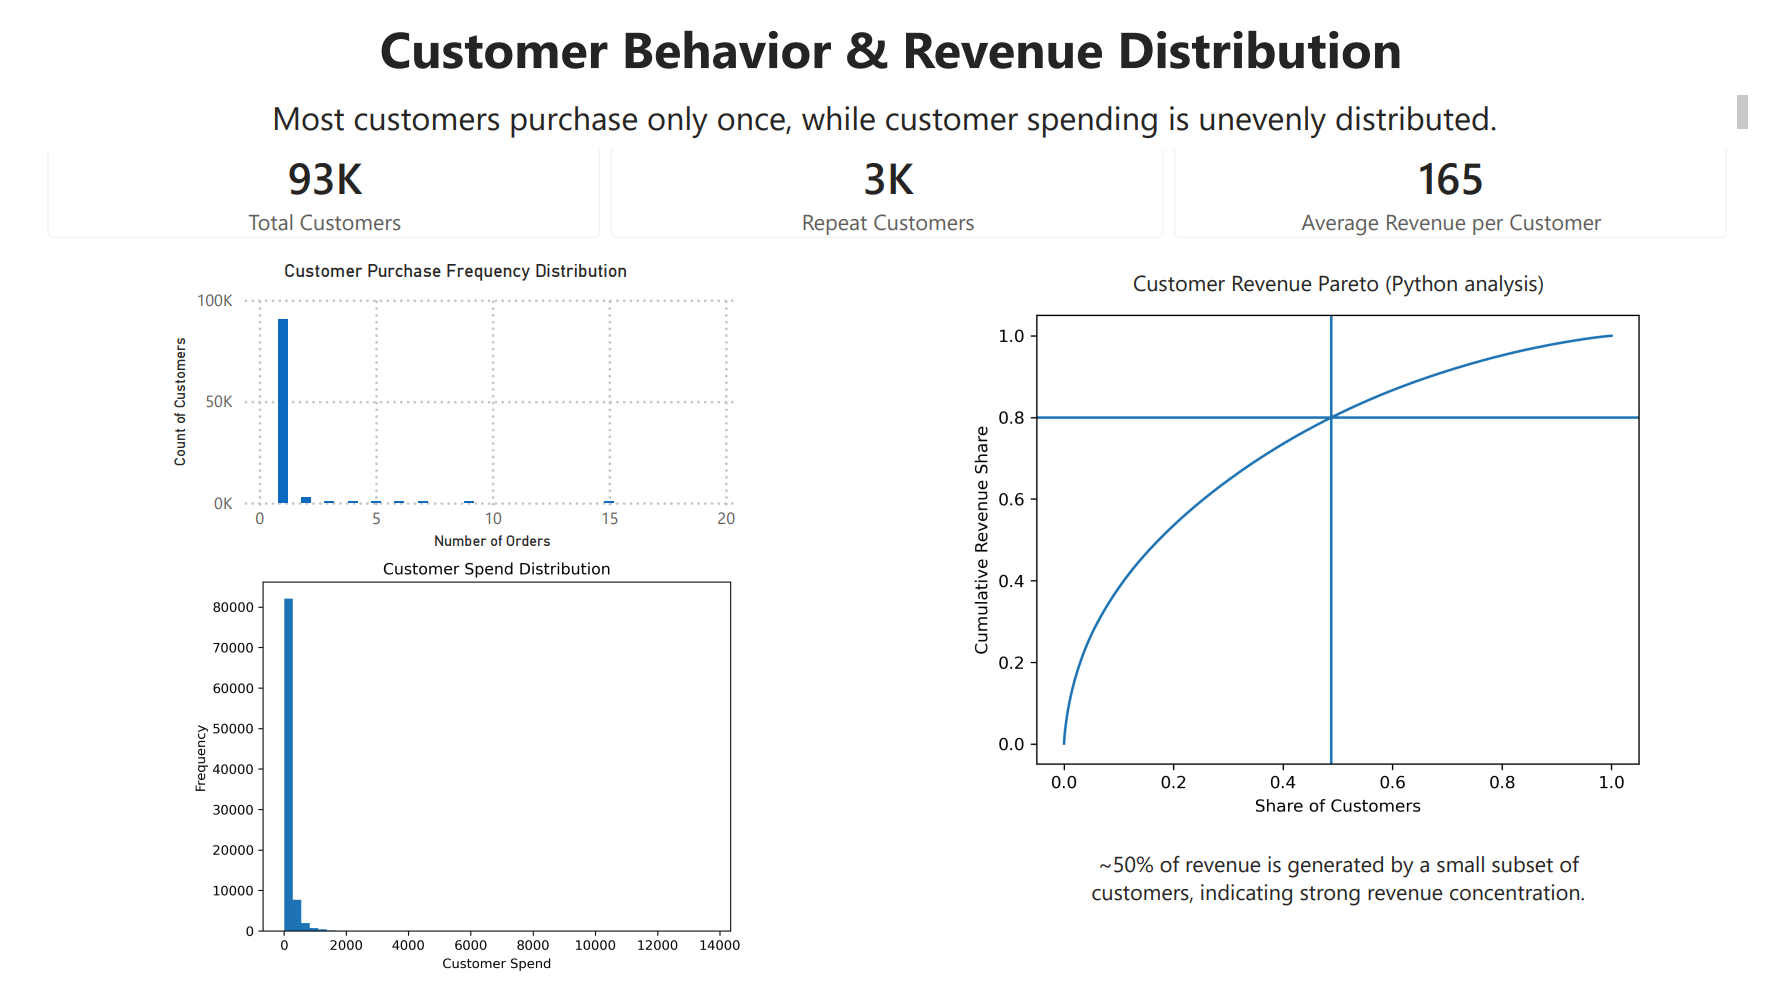

Layout of this report page (visuals, bound fields, positions):
{"tool":"powerbi","page":{"name":"Page 1","canvas":[1280,720],"ordinal":0},"visuals":[{"type":"clusteredColumnChart","title":"Customer Purchase Frequency Distribution","fields":{"Category":["customer_level.total_orders"],"Y":["CountNonNull(customer_level.customer_unique_id)"]},"box":[105.2,187.8,429.1,218.6],"z":0},{"type":"cardVisual","fields":{"Data":["customer_level.Total Customers","customer_level.RepeatCustomers","customer_level.Avg Revenue per Customer"]},"box":[0,82.6,1279.2,105.2],"z":1000},{"type":"textbox","box":[1.6,59.9,1279.2,45.3],"z":2000},{"type":"textbox","box":[1.6,0,1279.2,59.9],"z":3000},{"type":"image","box":[620.2,200.8,659,406.4],"z":4000},{"type":"textbox","box":[756.2,187.8,434,37.2],"z":5000},{"type":"textbox","box":[756.2,618.5,434,102],"z":6000},{"type":"image","box":[14.6,404.8,626.6,315.7],"z":7000}]}

Visuals, with their boxes in screenshot pixels (x1, y1, x2, y2), scaled from the page's 1280x720 canvas onto the 1779x990 screenshot:
"Customer Purchase Frequency Distribution" clusteredColumnChart: [x1=146, y1=258, x2=743, y2=559]
cardVisual - customer_level.Total Customers x customer_level.RepeatCustomers: [x1=0, y1=114, x2=1778, y2=258]
textbox: [x1=2, y1=82, x2=1778, y2=145]
textbox: [x1=2, y1=0, x2=1778, y2=82]
image: [x1=862, y1=276, x2=1778, y2=835]
textbox: [x1=1051, y1=258, x2=1654, y2=309]
textbox: [x1=1051, y1=850, x2=1654, y2=989]
image: [x1=20, y1=557, x2=891, y2=989]
